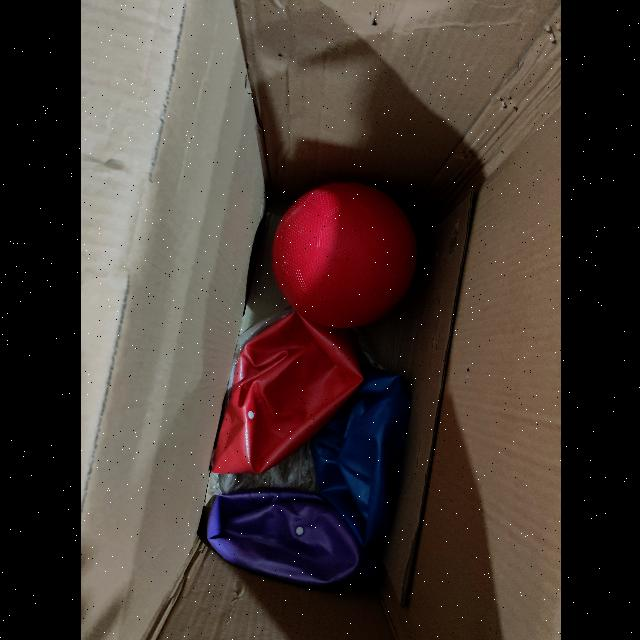R: (272, 181, 418, 329)
